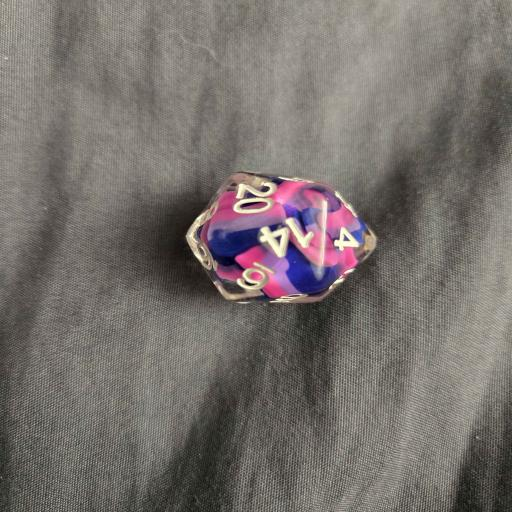twenty sided dice: (185, 170, 378, 304)
